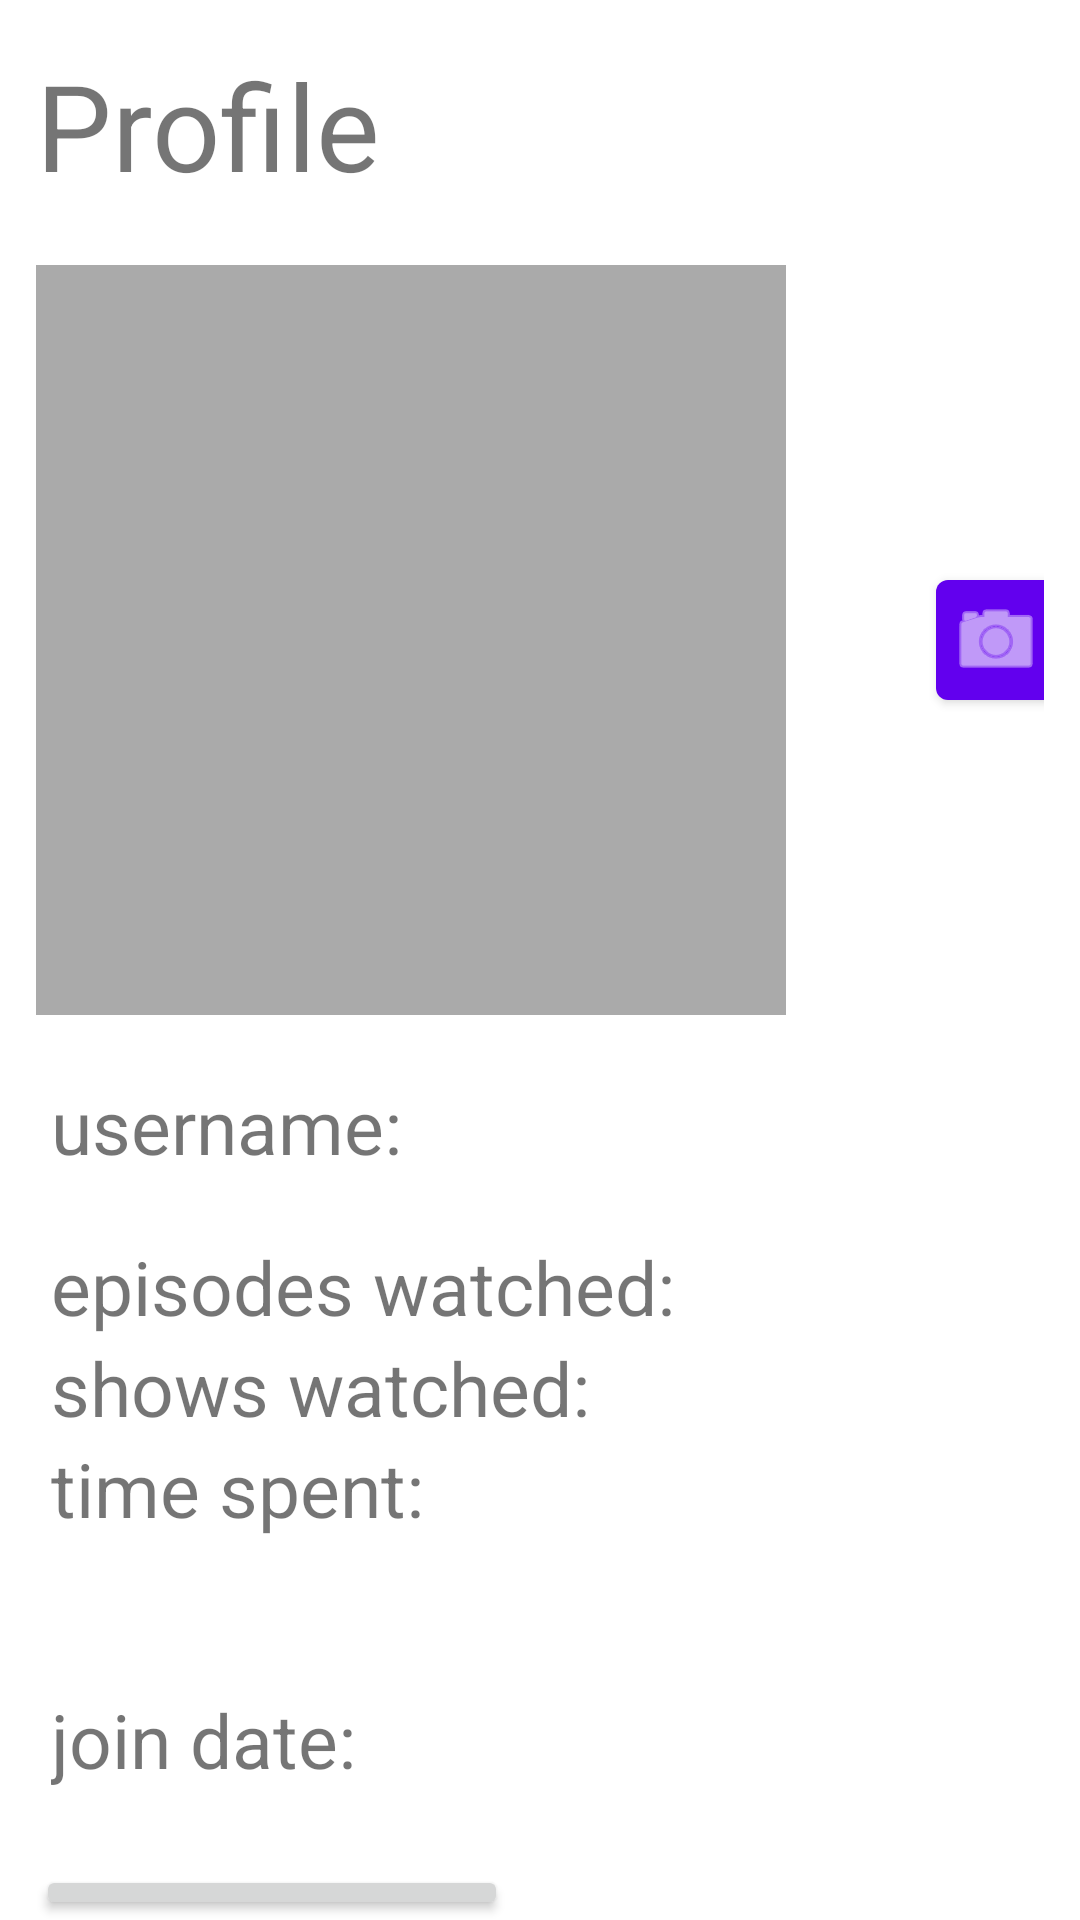

Icons on this 1080 x 1920 Android screen, each with its box as [x1,y1,x2,y2]:
camera: [936,580,1044,701]
